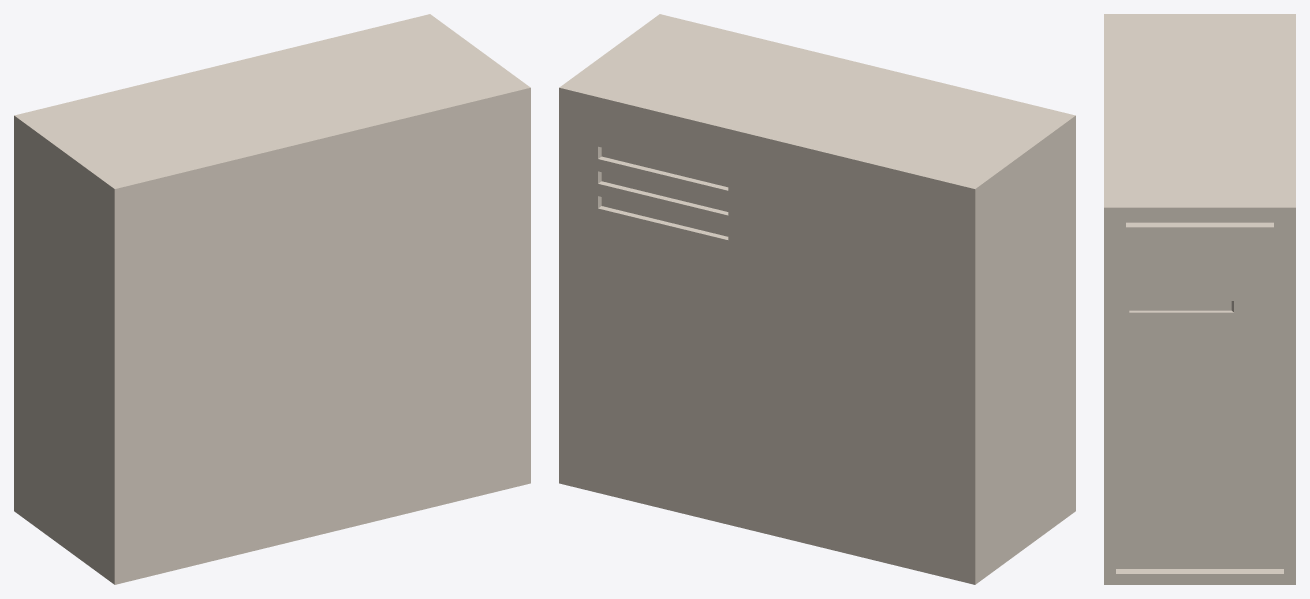
3 views of the same model, side by side, from view 1: azimuth 30°, elevation 25°; view 2: azimuth 150°, elevation 25°; view 3: azimuth 270°, elevation 25° (orthographic). The views are drawn at different scales.
Parts seen in each view (by area): view 1: Cube.001; view 2: Cube.001; view 3: Cube.001.
Part boxes in pixels (left/top/right/bottom): Cube.001: left=14, top=14, right=530, bottom=584; Cube.001: left=559, top=14, right=1075, bottom=584; Cube.001: left=1104, top=14, right=1295, bottom=584.
Bounding box in the file's own units: 2.69 × 2.45 × 1.13.
